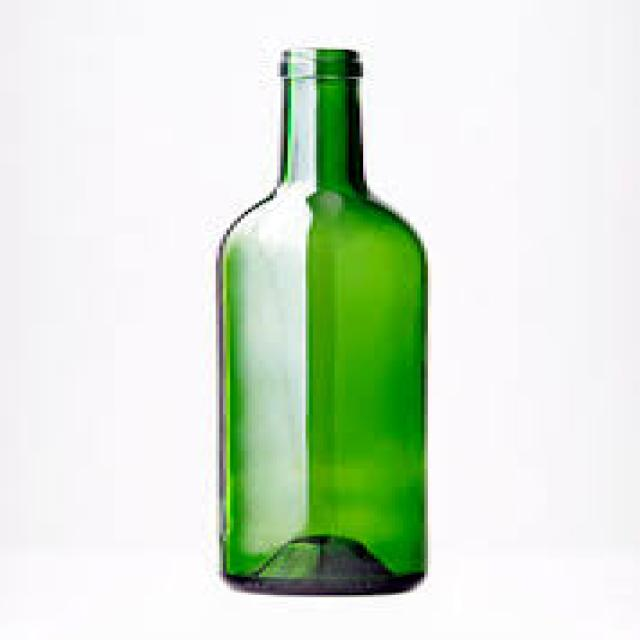Glass: (205, 48, 441, 596)
